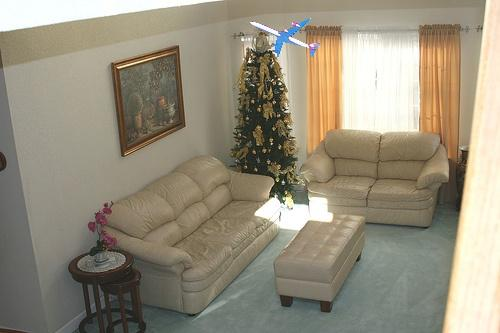tampered: (251, 19, 320, 57)
